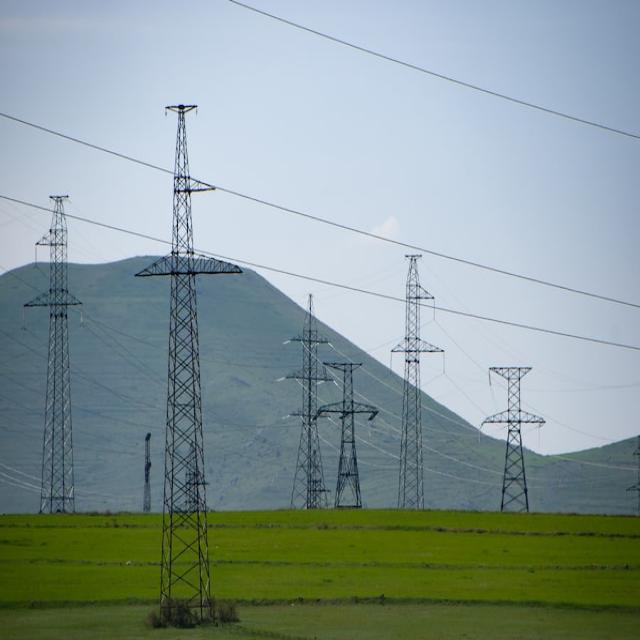transmission tower: (132, 92, 276, 598), (18, 170, 110, 530), (356, 212, 435, 536), (486, 308, 559, 541), (287, 286, 341, 552)
